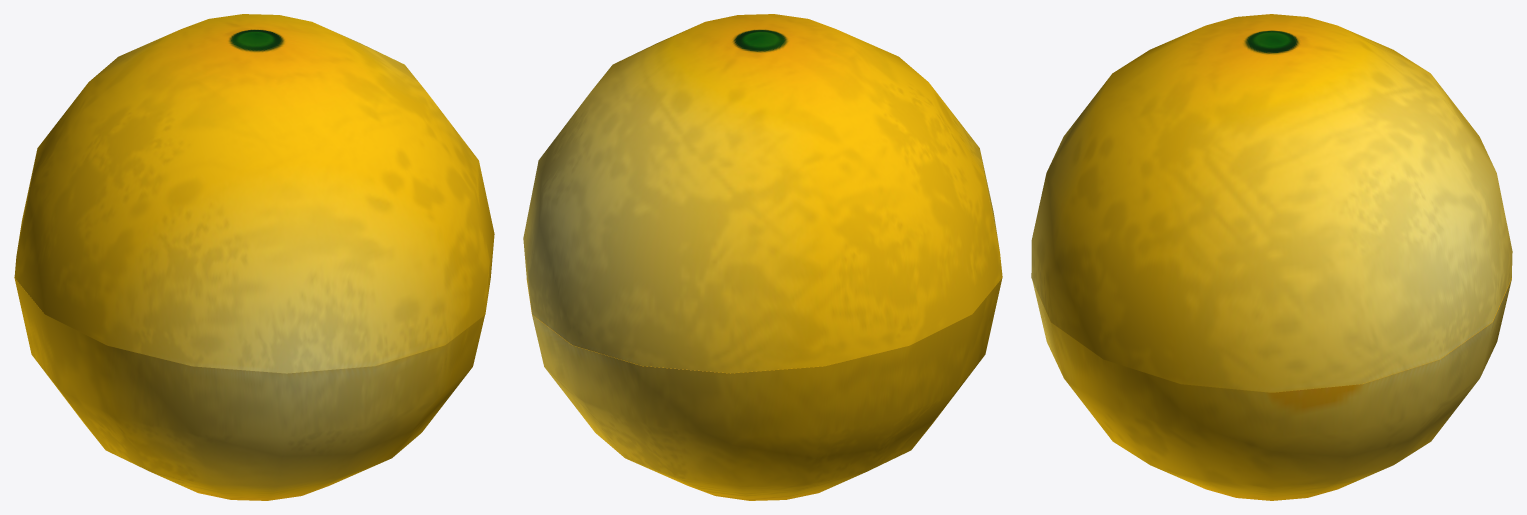
File: Laranja.FBX
3 views of the same model, side by side, from view 1: azimuth 30°, elevation 25°; view 2: azimuth 150°, elevation 25°; view 3: azimuth 270°, elevation 25° (orthographic).
Parts seen in each view (by area): view 1: Laranja_Up, LARANJA_DOWN; view 2: Laranja_Up, LARANJA_DOWN; view 3: Laranja_Up, LARANJA_DOWN.
Part boxes in pixels (box(x1,y1,x2,y2)): Laranja_Up: box(14, 14, 494, 373); LARANJA_DOWN: box(14, 277, 484, 500); Laranja_Up: box(523, 14, 1002, 373); LARANJA_DOWN: box(526, 278, 1002, 500); Laranja_Up: box(1031, 14, 1512, 392); LARANJA_DOWN: box(1032, 278, 1511, 500).
Bounding box in the file's own units: 20.64 × 20.82 × 20.55.
1 material, 1 textured.
